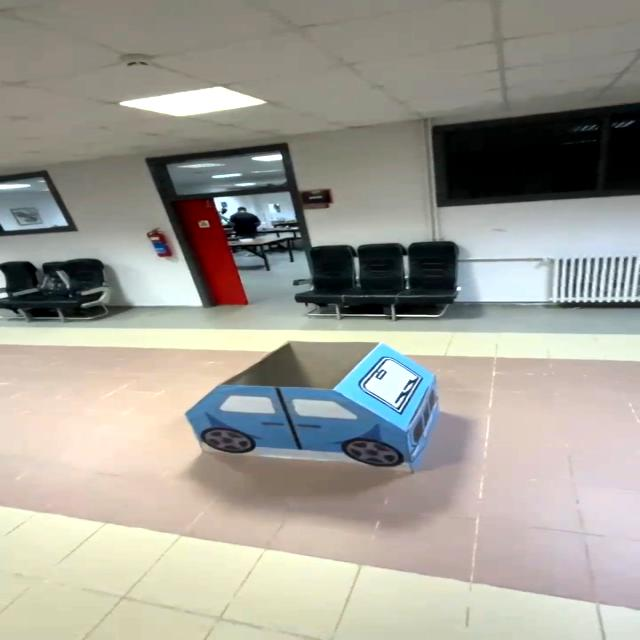blue_car: (156, 318, 458, 497)
